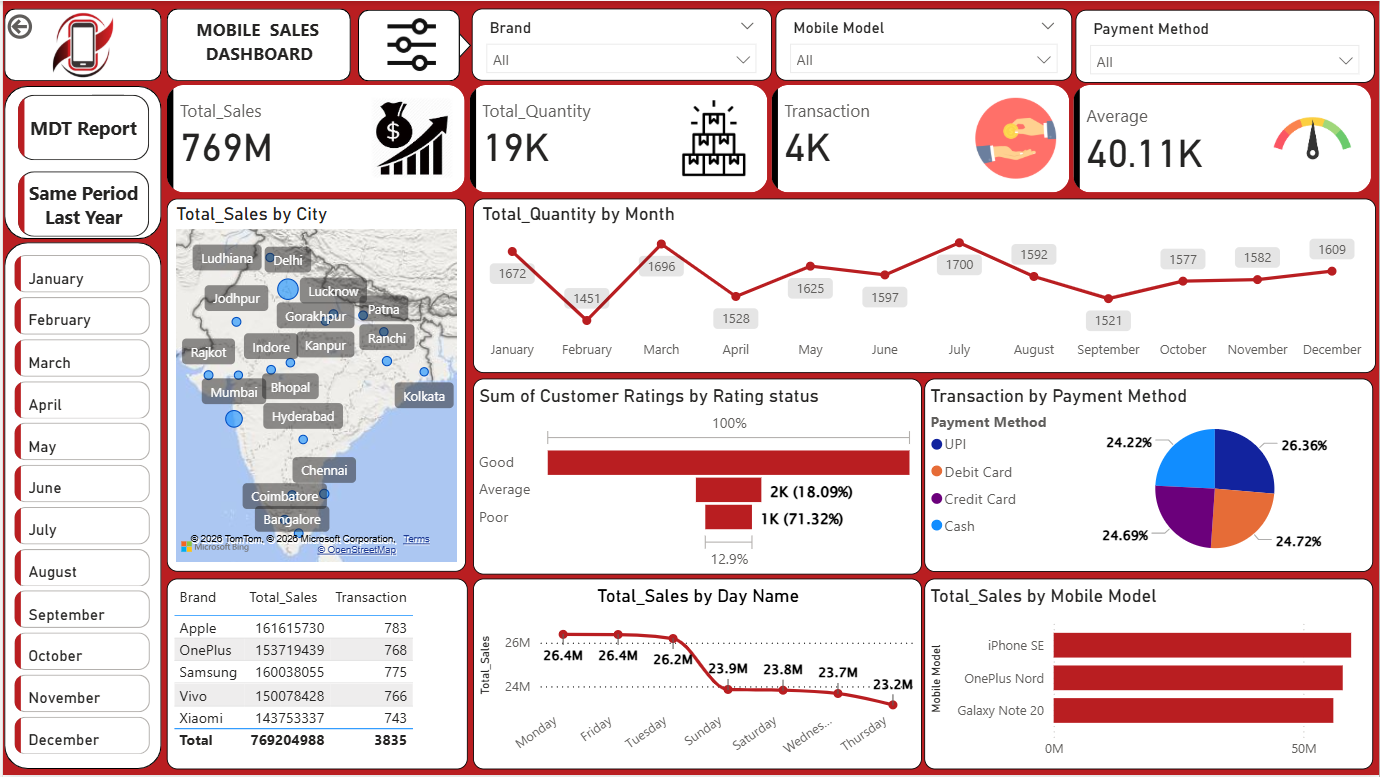

The dashboard page shown, as its layout file describes it:
{"tool":"powerbi","page":{"name":"  Dashboard","canvas":[1280,720],"ordinal":0},"visuals":[{"type":"shape","box":[408.5,26.7,27.4,29.3],"z":0},{"type":"shape","box":[1.2,7.5,146.2,67.5],"z":1000},{"type":"shape","box":[1.2,225,146.2,490],"z":2000},{"type":"actionButton","box":[0,7.8,40.8,31.4],"z":3000},{"type":"image","box":[36.5,4,76.2,75],"z":4000},{"type":"advancedSlicerVisual","fields":{"Values":["custom_Calendar.Date.Variation.Date Hierarchy.Month"]},"box":[6.2,231.2,136.2,480],"z":5000},{"type":"cardVisual","fields":{"Data":["sales_data.Total_Sales","sales_data.Total_Quantity","sales_data.Transaction","sales_data.Average"]},"box":[147.5,73.8,1132.5,110],"z":6000},{"type":"shape","box":[330,7.8,94.8,66.7],"z":7000},{"type":"slicer","fields":{"Values":["sales_data.Brand"]},"box":[436.1,7.1,278.9,67.5],"z":8000},{"type":"shape","box":[152.5,7.5,171.2,67.5],"z":9000},{"type":"slicer","fields":{"Values":["sales_data.Mobile Model"]},"box":[718.8,7.5,276.2,67.5],"z":10000},{"type":"slicer","fields":{"Values":["sales_data.Payment Method"]},"box":[997.7,7.7,278.1,67.7],"z":11000},{"type":"image","box":[345.6,6.3,70,69.6],"z":12000},{"type":"textbox","box":[161.3,10.9,153.9,54.8],"z":13000},{"type":"map","fields":{"Size":["sales_data.Total_Sales"],"Category":["sales_data.City"]},"box":[152.5,183.8,278.8,347.5],"z":14000},{"type":"lineChart","fields":{"Category":["custom_Calendar.Date.Variation.Date Hierarchy.Month"],"Y":["sales_data.Total_Quantity"]},"box":[437.5,183.8,840,162.5],"z":15000},{"type":"funnel","fields":{"Category":["sales_data.Rating status"],"Y":["Sum(sales_data.Customer Ratings)"]},"box":[437.2,351.2,417.4,182.6],"z":16000},{"type":"pieChart","fields":{"Y":["sales_data.Transaction"],"Category":["sales_data.Payment Method"]},"box":[857,351.2,417.4,180.2],"z":17000},{"type":"clusteredBarChart","fields":{"Y":["sales_data.Total_Sales"],"Category":["sales_data.Mobile Model"]},"box":[857.5,537.5,417.5,177.5],"z":18000},{"type":"tableEx","fields":{"Values":["sales_data.Brand","sales_data.Total_Sales","sales_data.Transaction"]},"box":[152.5,537.5,280,177.5],"z":19000},{"type":"areaChart","fields":{"Y":["sales_data.Total_Sales"],"Category":["custom_Calendar.Day Name"]},"box":[437.5,537.5,417.5,177.5],"z":20000},{"type":"shape","box":[1.2,78.8,146.2,142.5],"z":21000},{"type":"pageNavigator","box":[13.8,87.5,122.5,133.8],"z":22000}]}

Visuals, with their boxes in screenshot pixels (x1, y1, x2, y2), scaled from the page's 1280x720 canvas onto the 1380x777 screenshot:
shape: {"x1": 440, "y1": 29, "x2": 470, "y2": 60}
shape: {"x1": 1, "y1": 8, "x2": 159, "y2": 81}
shape: {"x1": 1, "y1": 243, "x2": 159, "y2": 772}
actionButton: {"x1": 0, "y1": 8, "x2": 44, "y2": 42}
image: {"x1": 39, "y1": 4, "x2": 122, "y2": 85}
advancedSlicerVisual - custom_Calendar.Date.Variation.Date Hierarchy.Month: {"x1": 7, "y1": 250, "x2": 154, "y2": 768}
cardVisual - sales_data.Total_Sales x sales_data.Total_Quantity: {"x1": 159, "y1": 80, "x2": 1379, "y2": 198}
shape: {"x1": 356, "y1": 8, "x2": 458, "y2": 80}
slicer - sales_data.Brand: {"x1": 470, "y1": 8, "x2": 771, "y2": 81}
shape: {"x1": 164, "y1": 8, "x2": 349, "y2": 81}
slicer - sales_data.Mobile Model: {"x1": 775, "y1": 8, "x2": 1073, "y2": 81}
slicer - sales_data.Payment Method: {"x1": 1076, "y1": 8, "x2": 1375, "y2": 81}
image: {"x1": 373, "y1": 7, "x2": 448, "y2": 82}
textbox: {"x1": 174, "y1": 12, "x2": 340, "y2": 71}
map - sales_data.Total_Sales x sales_data.City: {"x1": 164, "y1": 198, "x2": 465, "y2": 573}
lineChart - custom_Calendar.Date.Variation.Date Hierarchy.Month x sales_data.Total_Quantity: {"x1": 472, "y1": 198, "x2": 1377, "y2": 374}
funnel - sales_data.Rating status x Sum(sales_data.Customer Ratings): {"x1": 471, "y1": 379, "x2": 921, "y2": 576}
pieChart - sales_data.Transaction x sales_data.Payment Method: {"x1": 924, "y1": 379, "x2": 1374, "y2": 573}
clusteredBarChart - sales_data.Total_Sales x sales_data.Mobile Model: {"x1": 924, "y1": 580, "x2": 1375, "y2": 772}
tableEx - sales_data.Brand x sales_data.Total_Sales: {"x1": 164, "y1": 580, "x2": 466, "y2": 772}
areaChart - sales_data.Total_Sales x custom_Calendar.Day Name: {"x1": 472, "y1": 580, "x2": 922, "y2": 772}
shape: {"x1": 1, "y1": 85, "x2": 159, "y2": 239}
pageNavigator: {"x1": 15, "y1": 94, "x2": 147, "y2": 239}
